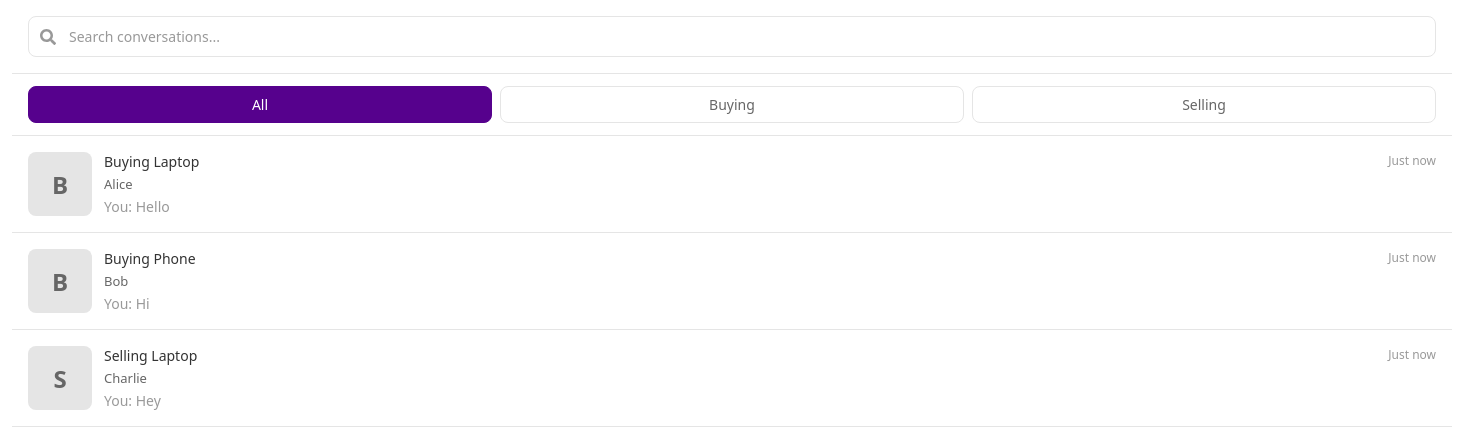
Test: ConversationList › Search and filter combinations › filters by type and search query together
Filter by buying
Click the button "Buying".
click(732, 104)  # box [500,86,964,123]
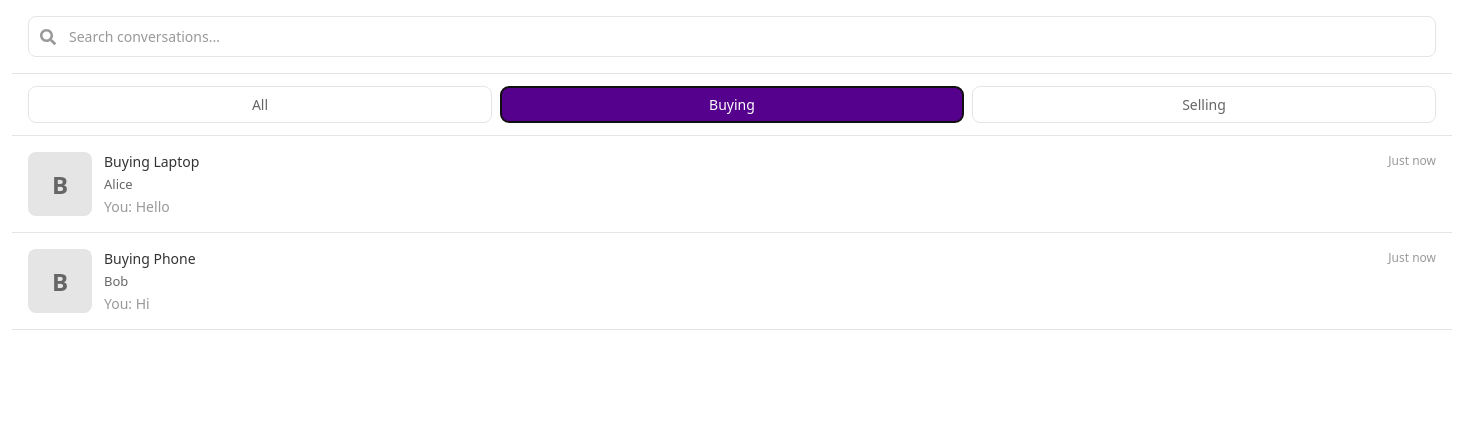
Search for "Laptop"
Type "Laptop" into the field with placeholder "Search conversations...".
click(732, 36); type("Laptop")  # box [28,16,1436,57]
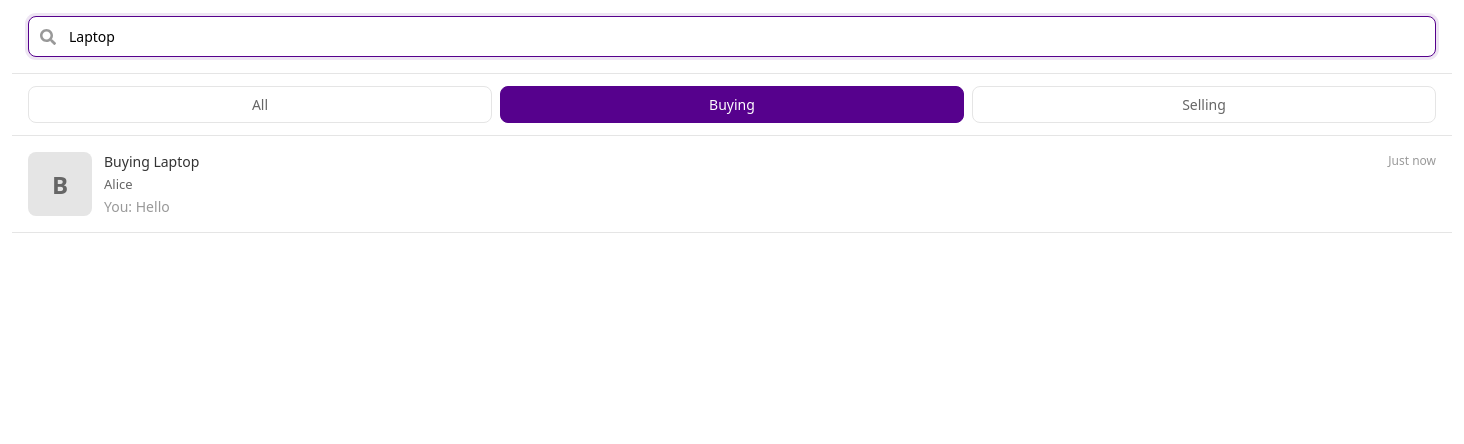
Expected: the heading "Buying Laptop" is shown, [104,152,199,171]
Expected: the button "Buying Phone" is gone
